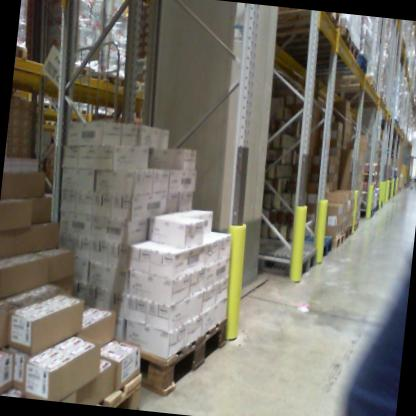pallet: (133, 310, 233, 407), (274, 17, 355, 57), (250, 237, 318, 282), (273, 7, 344, 44), (292, 35, 361, 72), (93, 363, 145, 409), (316, 69, 379, 101), (313, 51, 369, 80), (288, 232, 335, 260), (99, 71, 140, 91), (31, 96, 72, 114), (71, 62, 102, 82), (319, 230, 345, 252), (15, 44, 29, 62), (342, 224, 352, 241), (350, 218, 360, 233)
